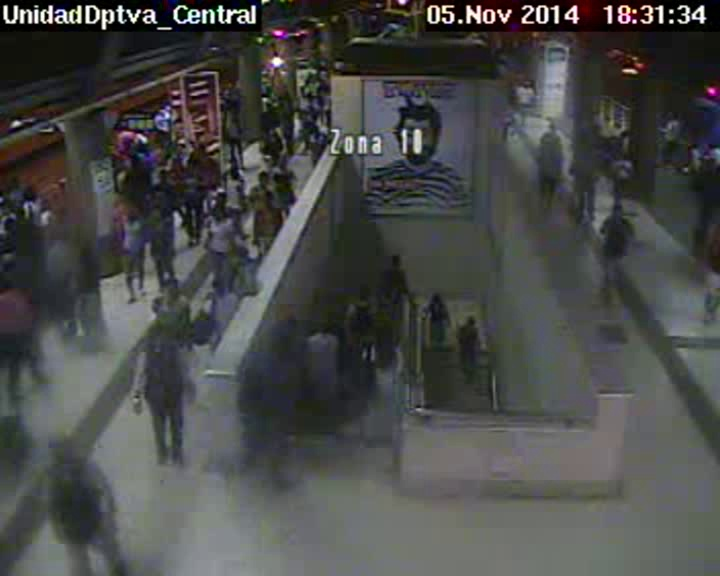person: (50, 436, 78, 458), (371, 324, 395, 349), (148, 311, 169, 335), (267, 333, 289, 353), (163, 278, 182, 299), (1, 267, 19, 286), (262, 145, 278, 165), (214, 200, 230, 217), (357, 284, 372, 302), (235, 245, 251, 261), (312, 317, 327, 334), (611, 203, 627, 218), (25, 186, 39, 203), (79, 241, 94, 256), (50, 225, 64, 241), (130, 154, 144, 170), (389, 252, 403, 267), (257, 170, 272, 184), (577, 132, 591, 147), (195, 143, 210, 157), (209, 276, 223, 291), (124, 203, 138, 217), (6, 177, 19, 191), (616, 145, 629, 158), (152, 193, 165, 206), (229, 165, 241, 179), (3, 218, 16, 230), (119, 118, 131, 130), (547, 120, 558, 133), (186, 162, 197, 175), (315, 87, 326, 100), (157, 169, 168, 181), (668, 107, 680, 118), (309, 124, 320, 136), (1, 202, 12, 214), (432, 292, 443, 303), (159, 104, 170, 114), (521, 76, 531, 86), (467, 316, 476, 326), (229, 114, 239, 123), (271, 120, 280, 128), (272, 67, 281, 75), (279, 86, 287, 95), (265, 104, 272, 112), (225, 81, 232, 88), (310, 76, 317, 83), (261, 91, 267, 98)
